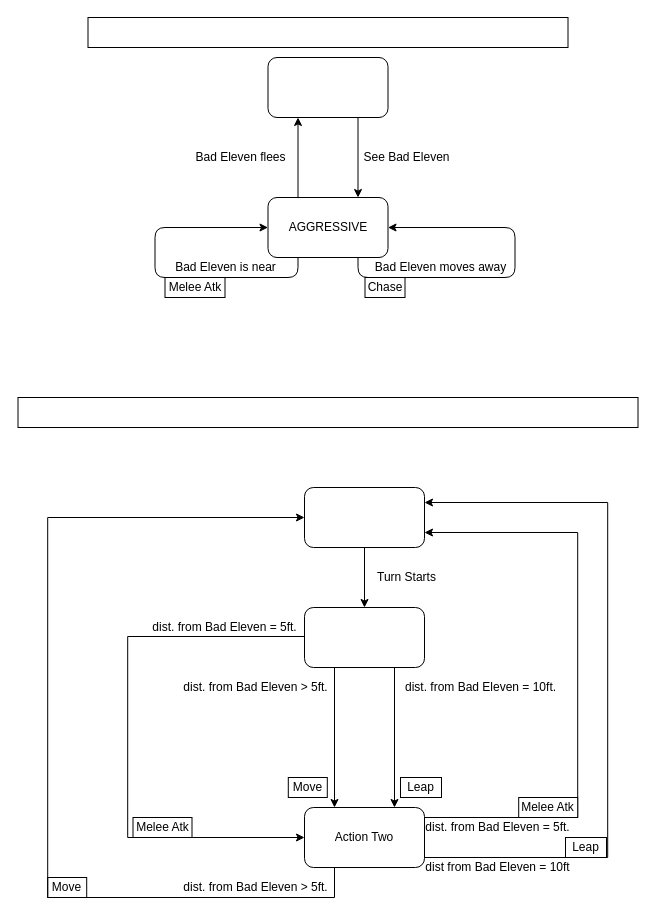
The diagram is 655 pixels wide and 923 high, and some of its shapes have lost their labels. Here are the shapes that lost their labels. From the top down, the centre of each, then its label:
the point at 327,32: Free Roaming
the point at 327,87: IDLE
the point at 327,412: Battle Mode
the point at 364,517: Wait Turn
the point at 364,637: Action One
